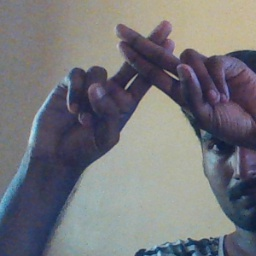F: (85, 13, 221, 134)
